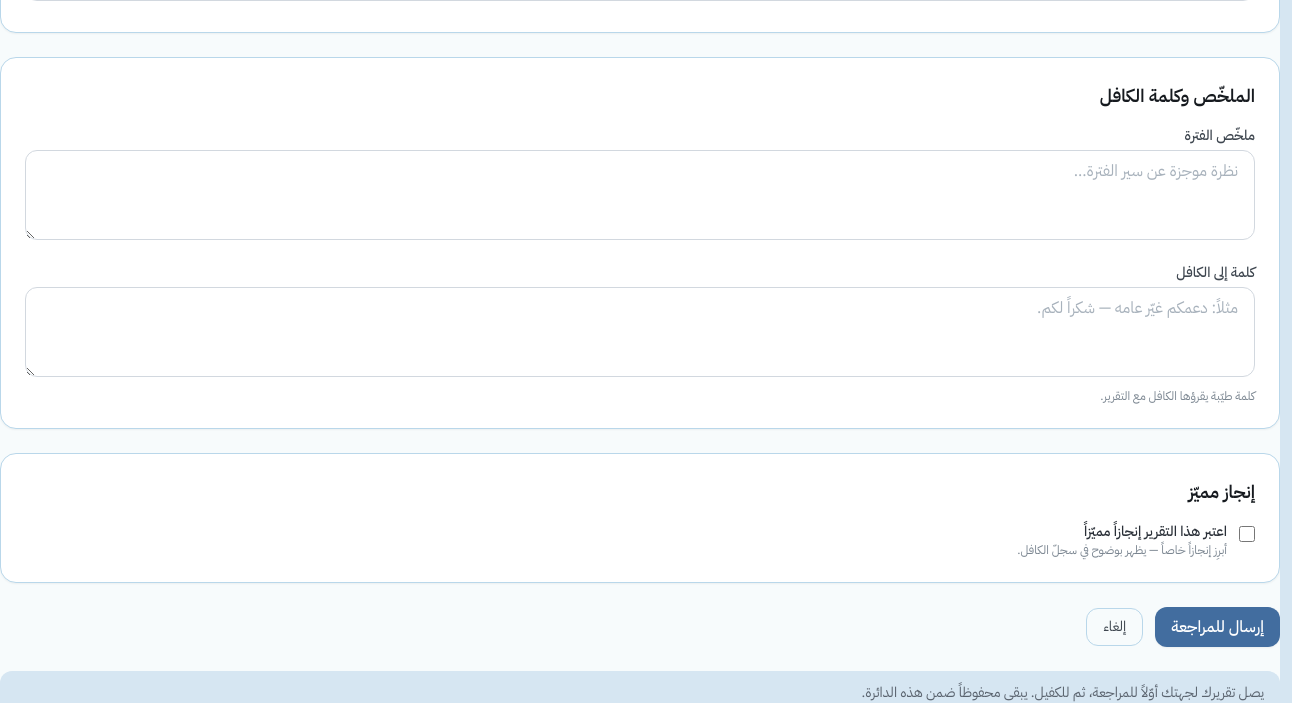
Test: OrphanageManagerReportPage — validation › requires a milestone label when the report is flagged as a milestone
(page scrolled)
Note: The milestone checkbox is the only checkbox on the form.
Click the checkbox at [1247, 534], box [1239,526,1255,542]
(page scrolled)
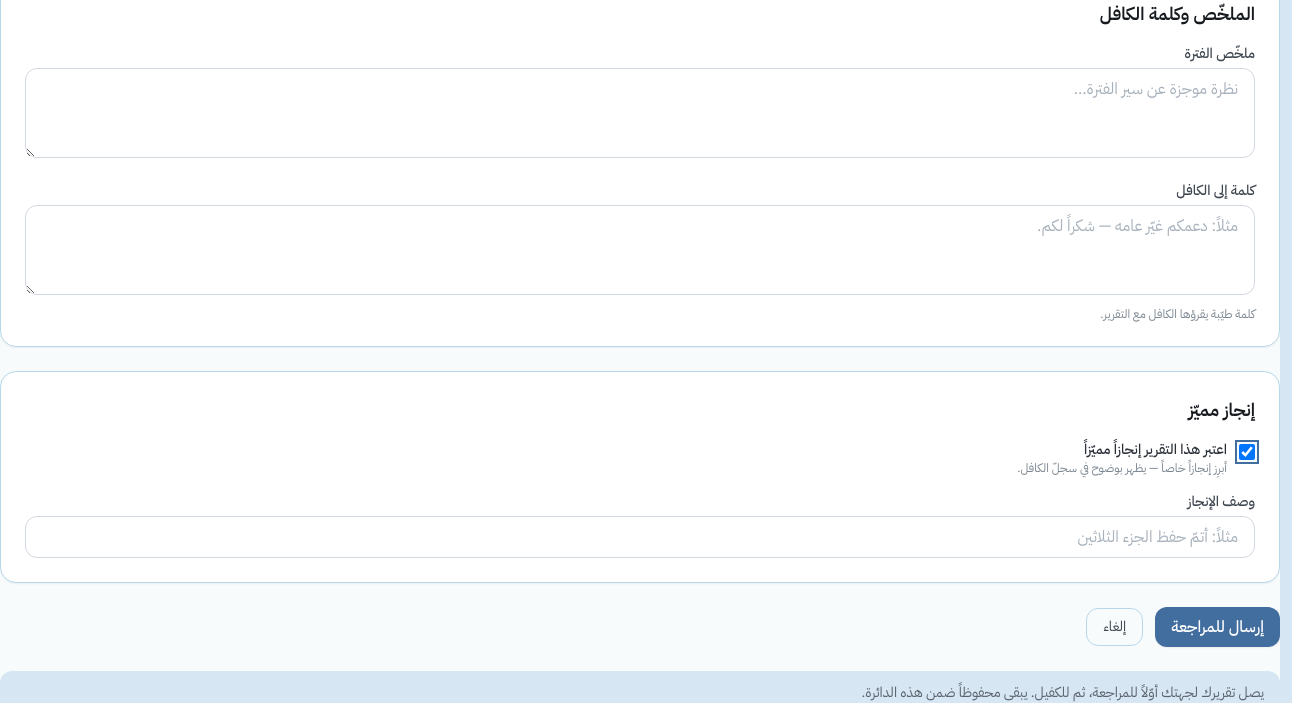
Click the button "إرسال للمراجعة" at [1218, 627], box [1155,607,1280,647]
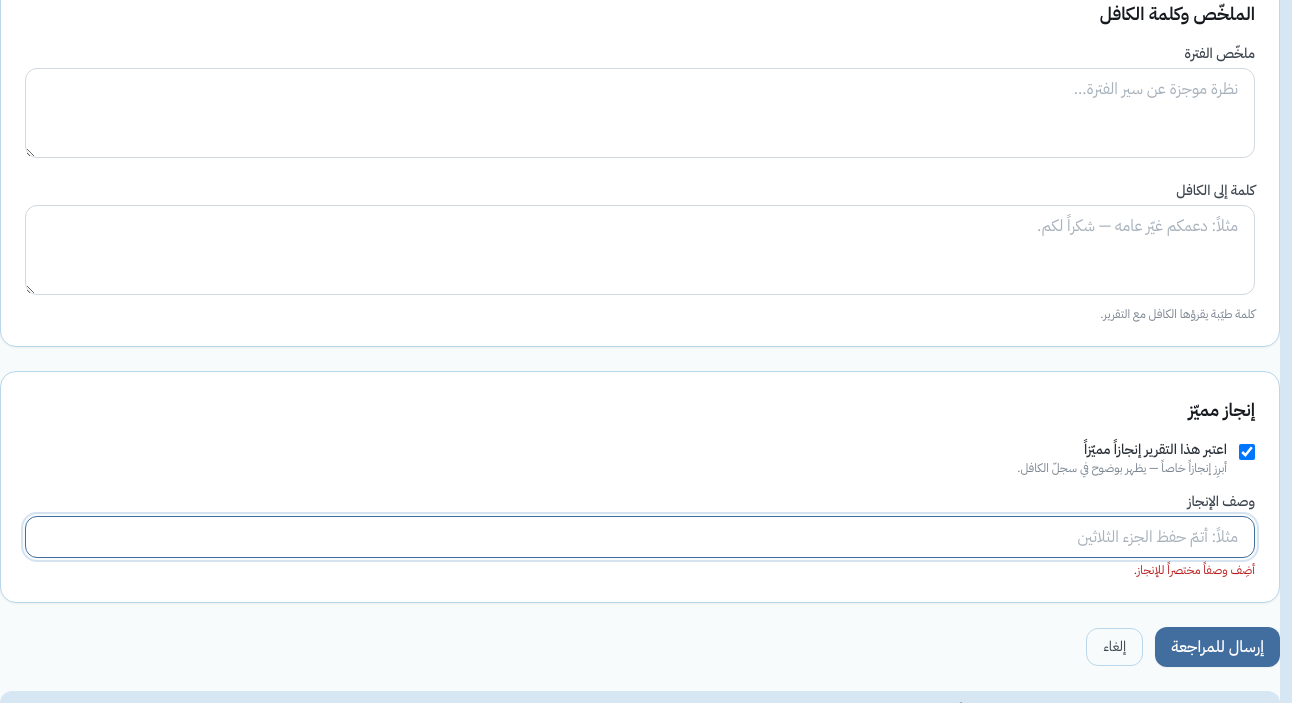
Check: the text "أضِف وصفاً مختصراً للإنجاز." is shown, box [1134,561,1255,579]
